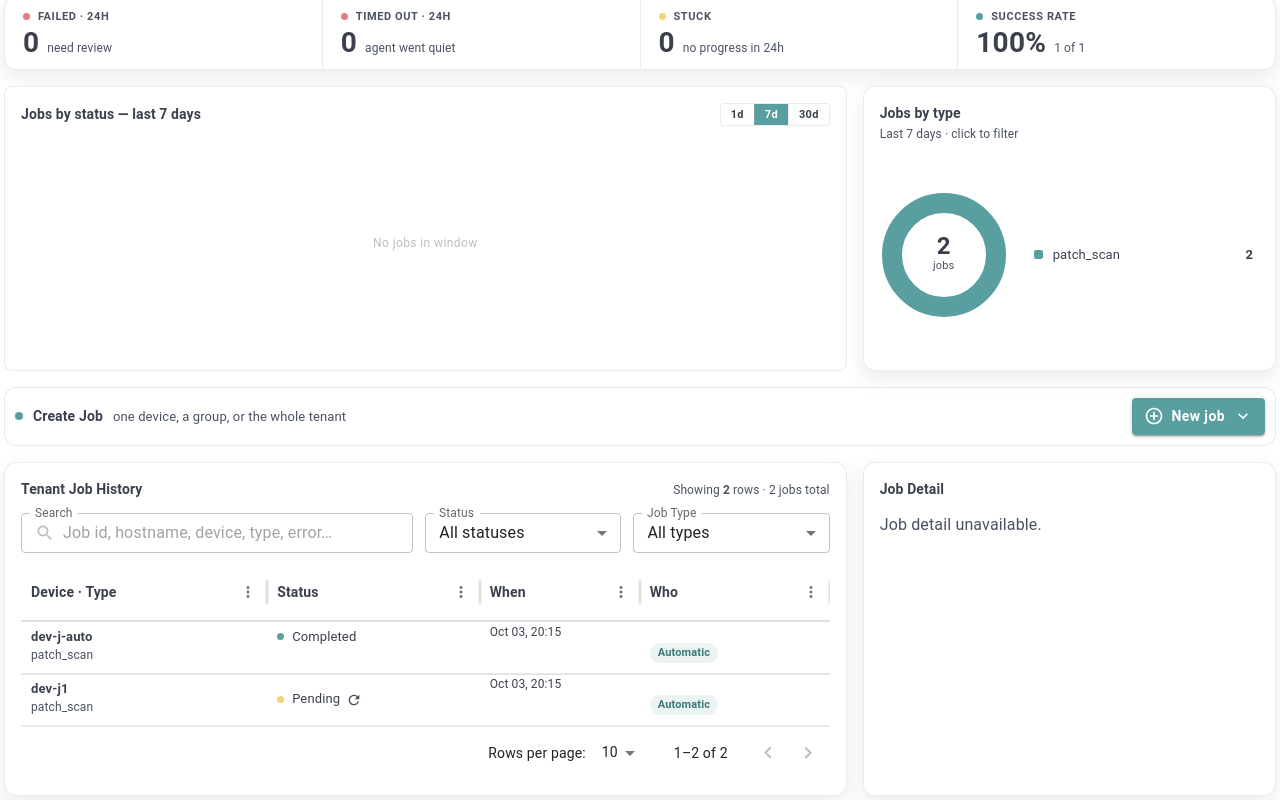
Test case: refrescar una sola fila del historial › ⭐ pulsarlo trae el estado nuevo y lo pinta EN ESA FILA
(page scrolled)
Check: the text "Pending" is shown, box 292,689 -> 340,709
Click the button named "refresh this job": {"x": 354, "y": 700} 344,690 -> 364,710
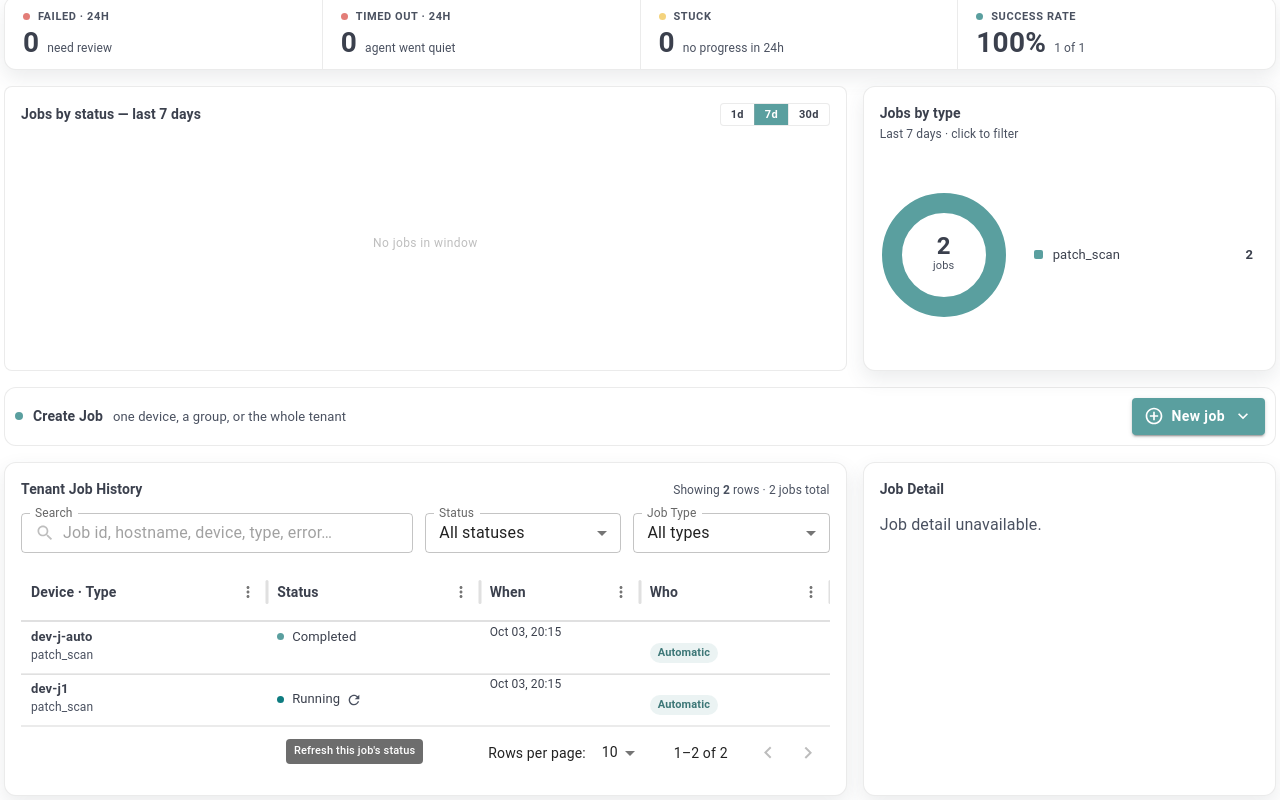
Check: the text "Running" is shown, box 292,689 -> 340,709
